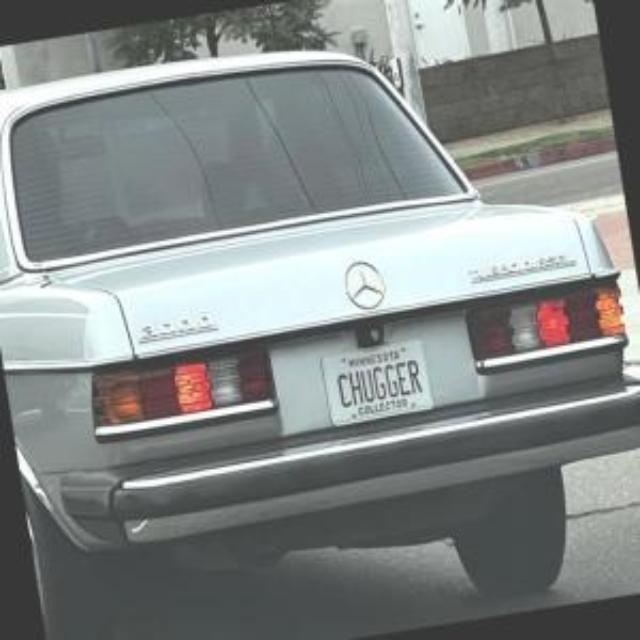License Plate: (319, 338, 434, 427)
